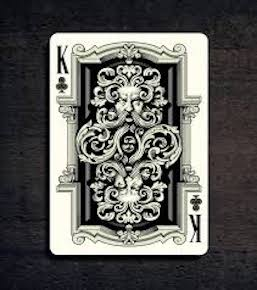KingOfClubs: (43, 27, 213, 265)
